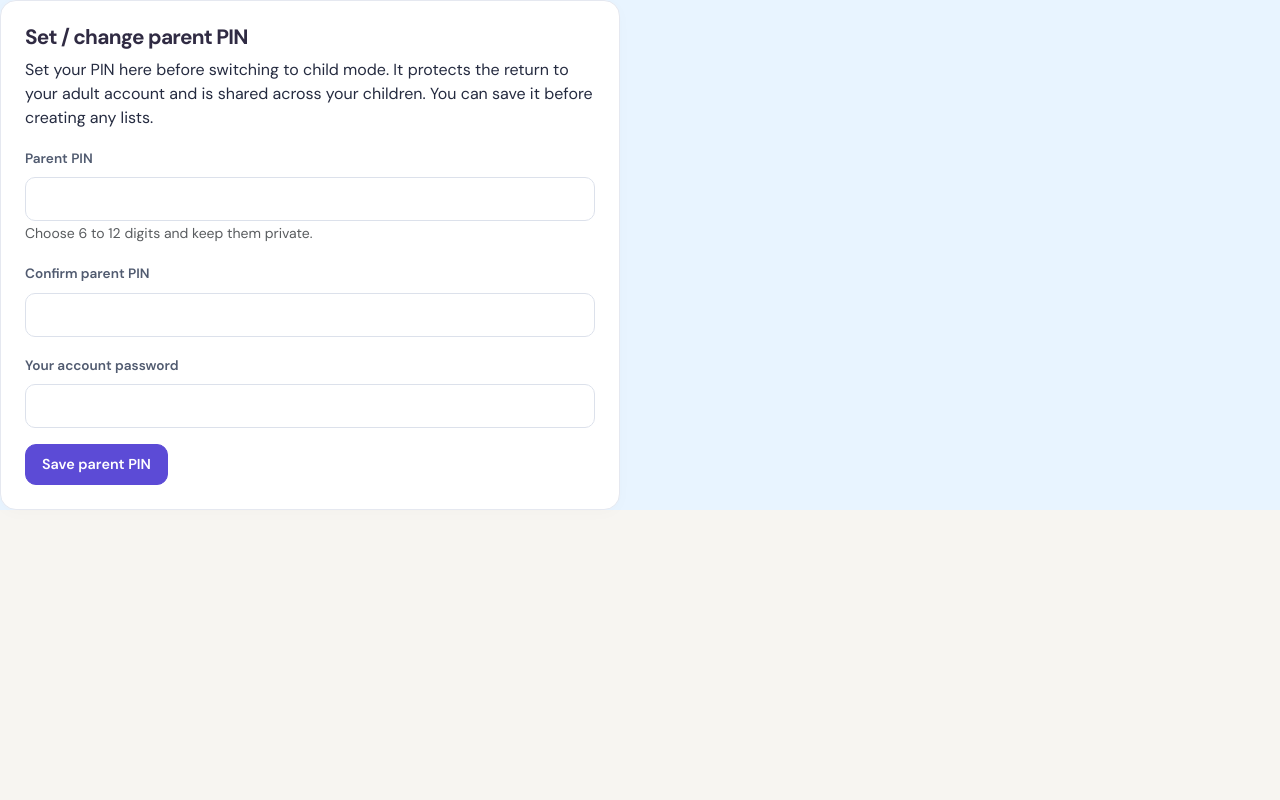
Test case: saves the household PIN directly without requiring a child or list
In the password field labelled "Parent PIN": (310, 199) [25,177,595,221], type "123456"
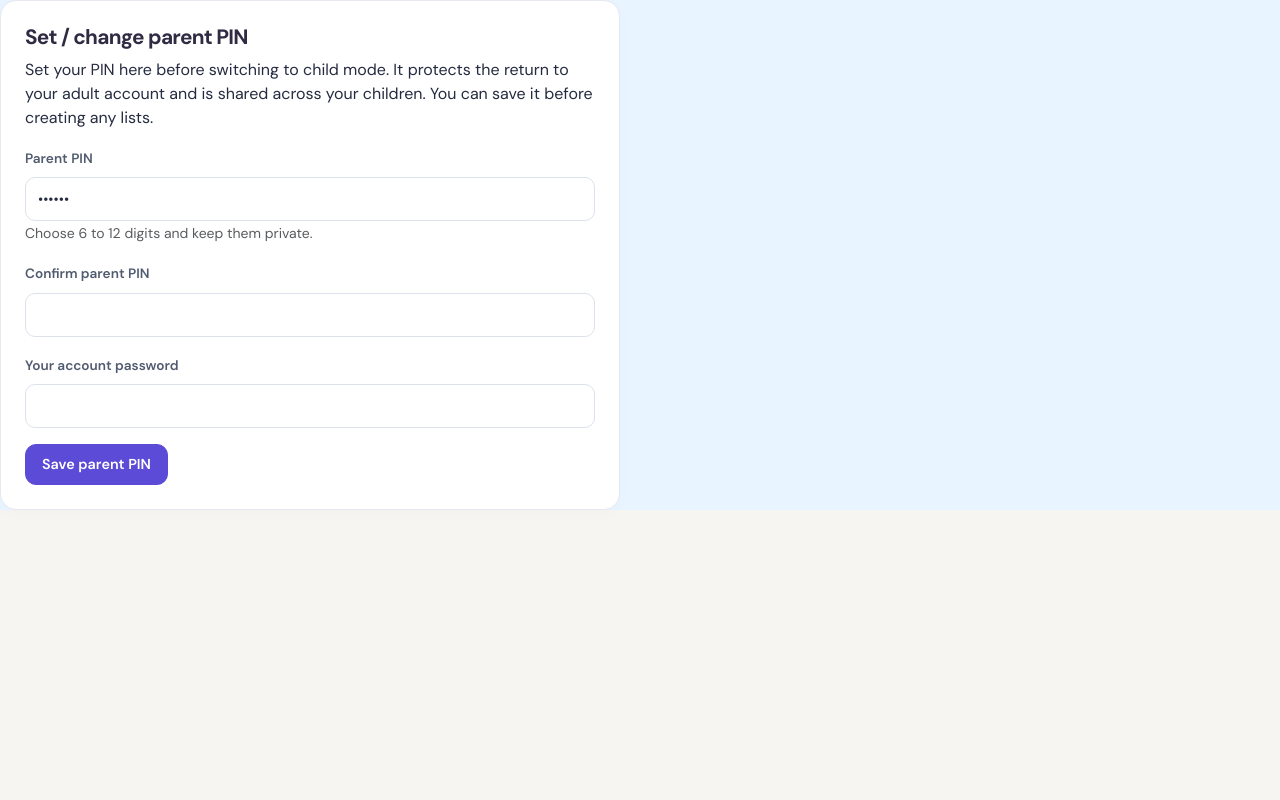
In the password field labelled "Confirm parent PIN": (310, 315) [25,293,595,337], type "123456"
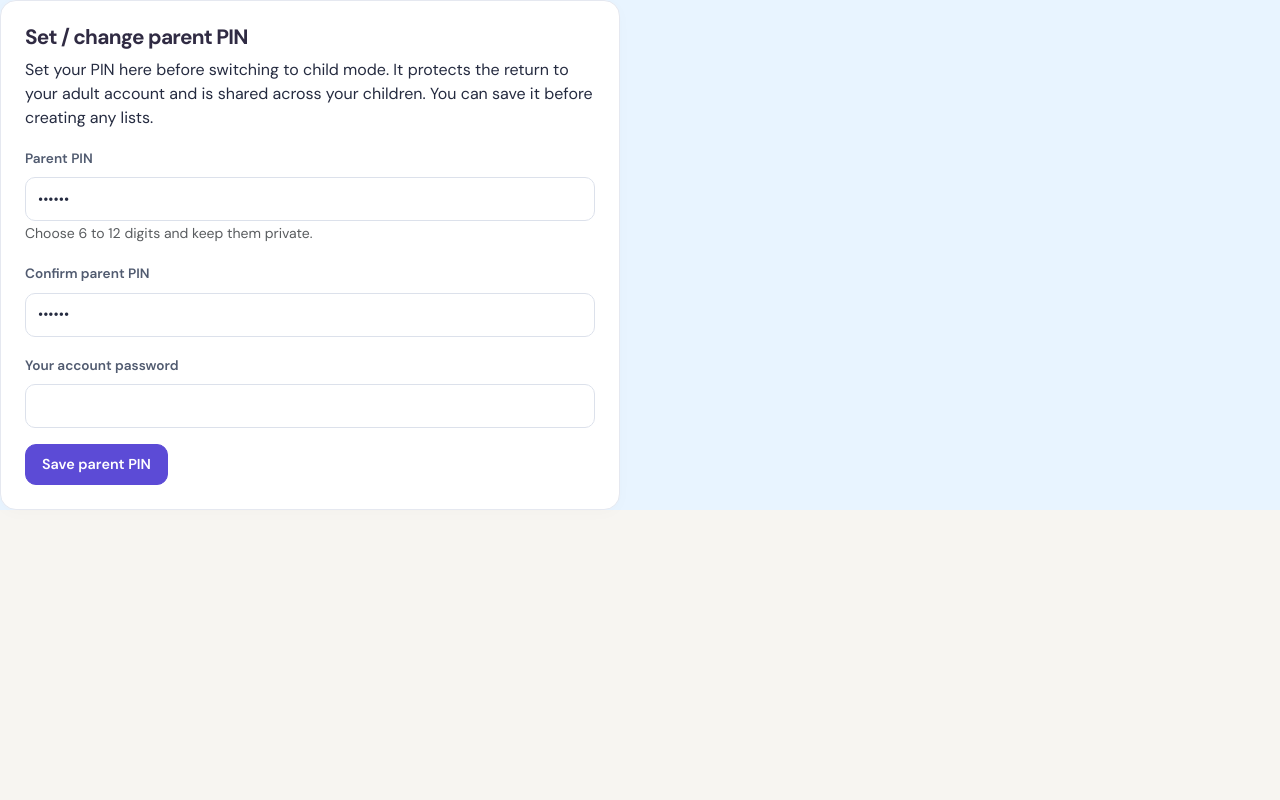
In the password field labelled "Your account password": (310, 406) [25,384,595,428], type "parent-password"
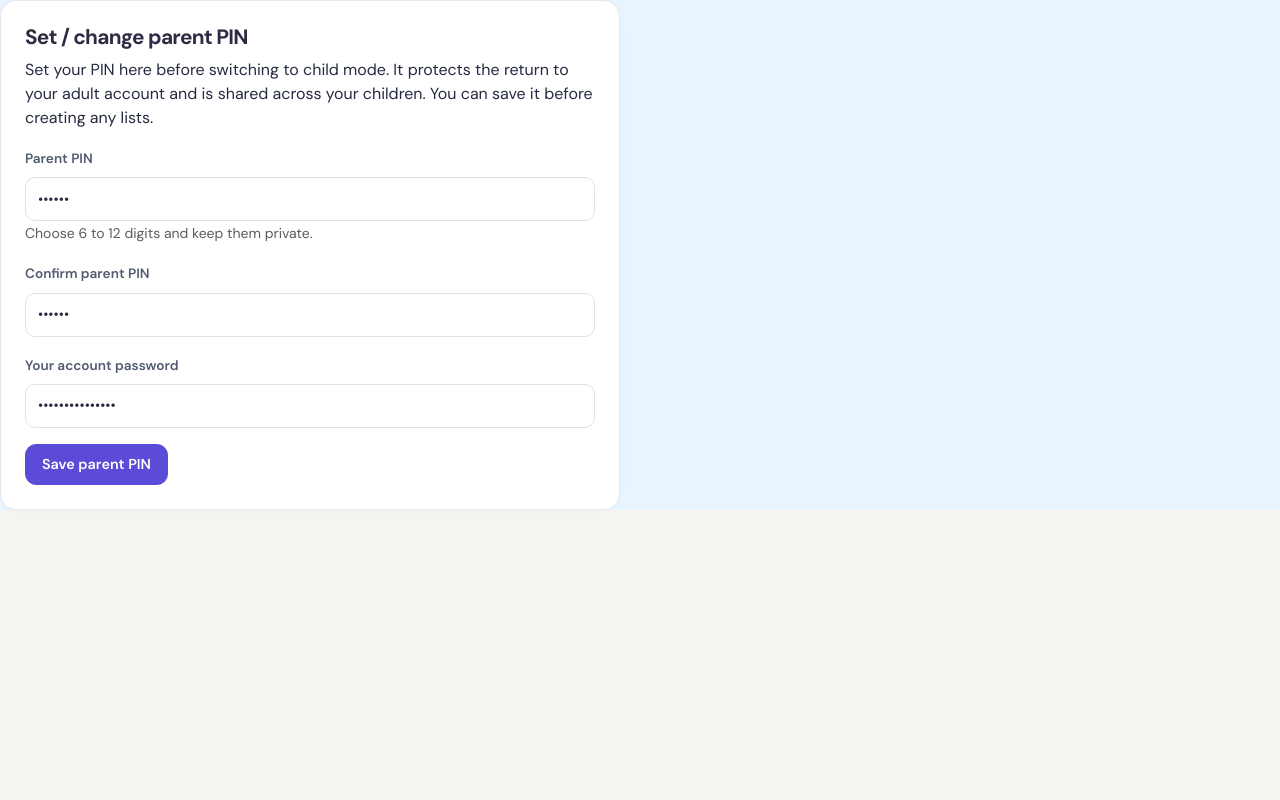
Click the button "Save parent PIN": (96, 465) [25,444,168,485]
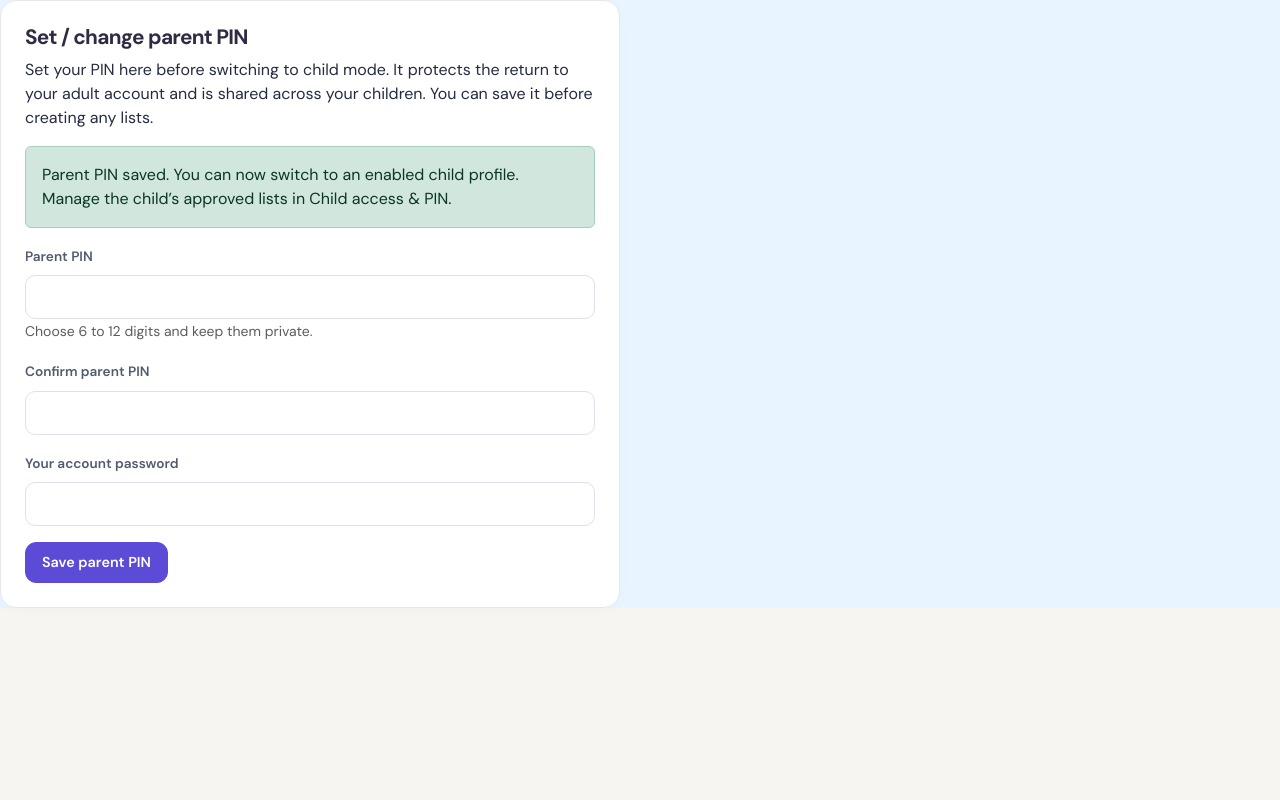
Result: the message shows "Parent PIN saved" at [42,164,519,209]
Result: the password field labelled "Parent PIN" is empty at [25,275,595,319]
Result: the password field labelled "Your account password" is empty at [25,482,595,526]
